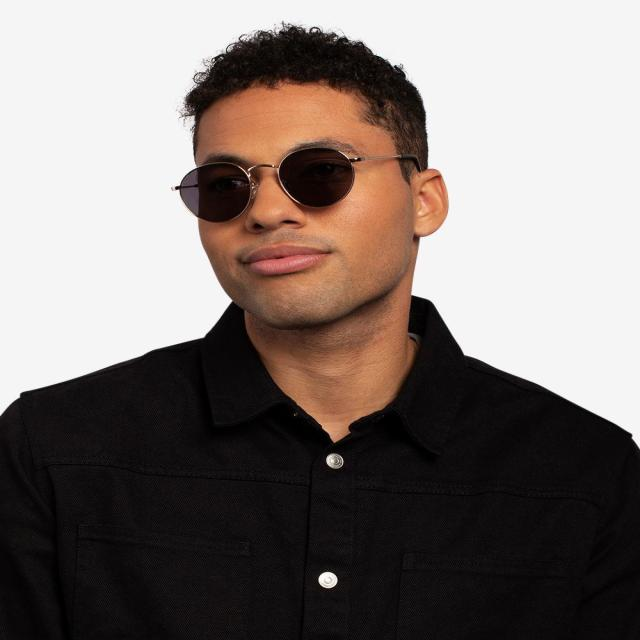2_gafas: (171, 145, 422, 223)
